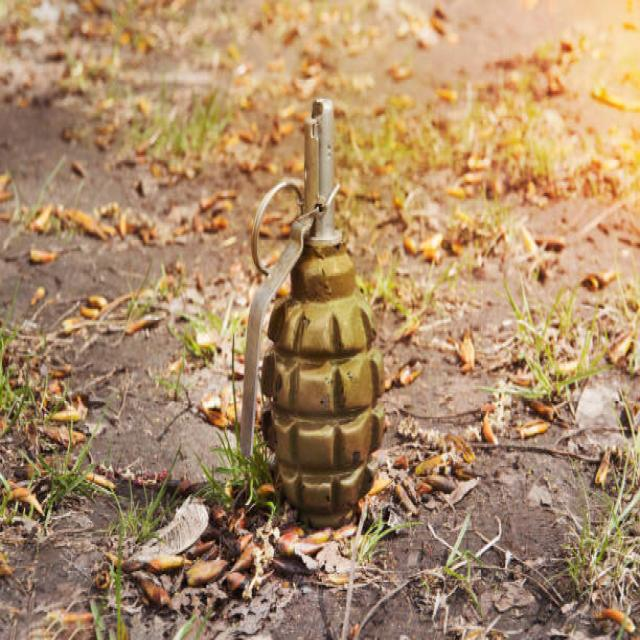grenade: (237, 87, 389, 526)
